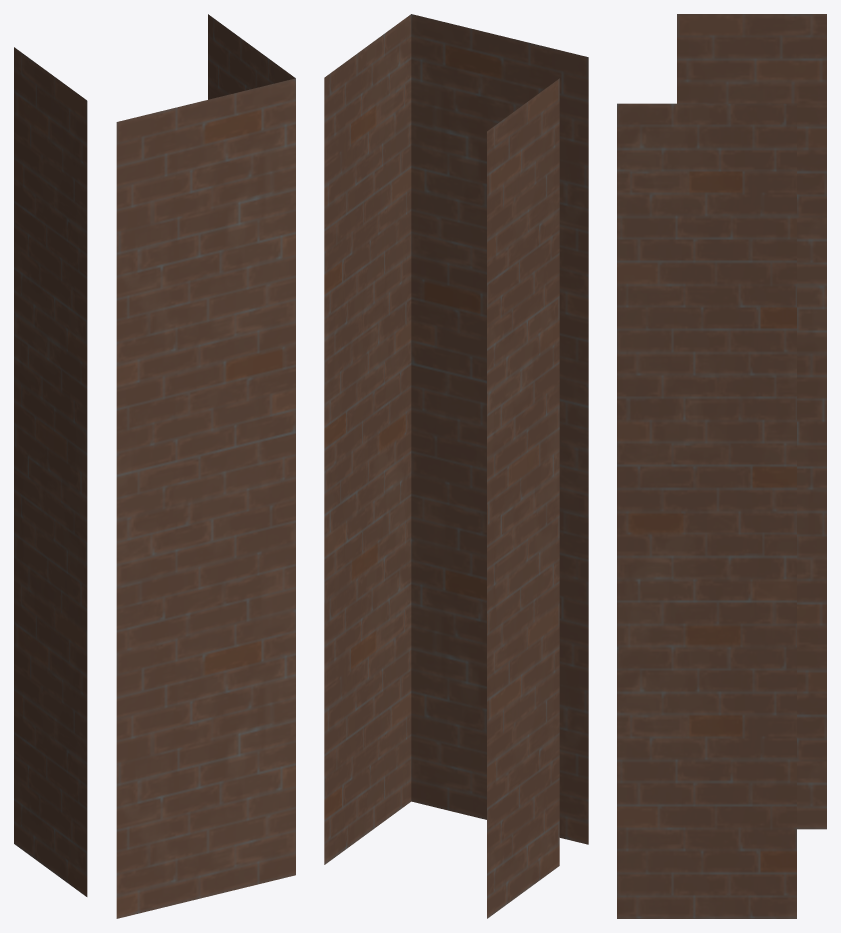
File: brick_90angle_l.glb
3 views of the same model, side by side, from view 1: azimuth 30°, elevation 25°; view 2: azimuth 150°, elevation 25°; view 3: azimuth 270°, elevation 25° (orthographic). The views are drawn at different scales.
Parts seen in each view (by area): view 1: Brick_90Angle_L; view 2: Brick_90Angle_L; view 3: Brick_90Angle_L.
Part boxes in pixels (box(x1,y1,x2,y2)): Brick_90Angle_L: box(14, 14, 295, 918); Brick_90Angle_L: box(324, 14, 588, 918); Brick_90Angle_L: box(617, 14, 826, 918).
Bounding box in the file's own units: 0.7062 × 3 × 0.7.
2 materials, 2 textured.
